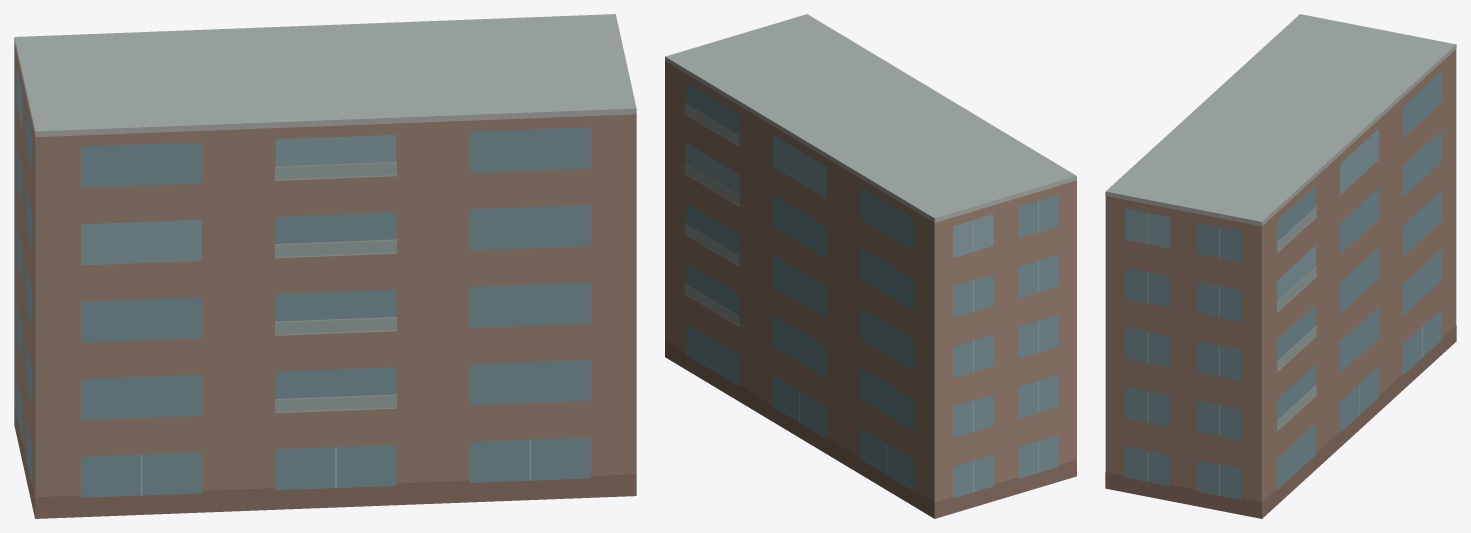
Rendered from survey-upis-32669296.glb.
3 views of the same model, side by side, from view 1: azimuth 30°, elevation 25°; view 2: azimuth 150°, elevation 25°; view 3: azimuth 270°, elevation 25° (orthographic). The views are drawn at different scales.
Parts seen in each view (by area): view 1: survey-upis-32669296.tmp; view 2: survey-upis-32669296.tmp; view 3: survey-upis-32669296.tmp.
Boxes of the visible parts, left/top/right/bottom form: survey-upis-32669296.tmp: left=14, top=14, right=636, bottom=518; survey-upis-32669296.tmp: left=665, top=14, right=1076, bottom=518; survey-upis-32669296.tmp: left=1105, top=14, right=1456, bottom=518.
Size of the model in its own units: 24.63 by 16.4 by 17.58.
